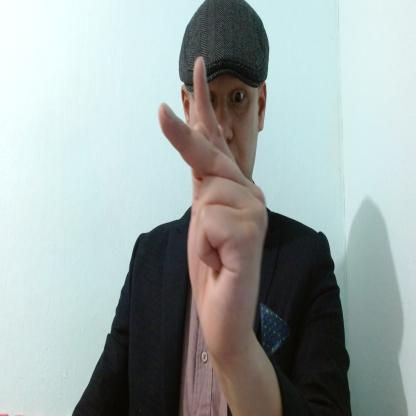P: (158, 54, 268, 349)
